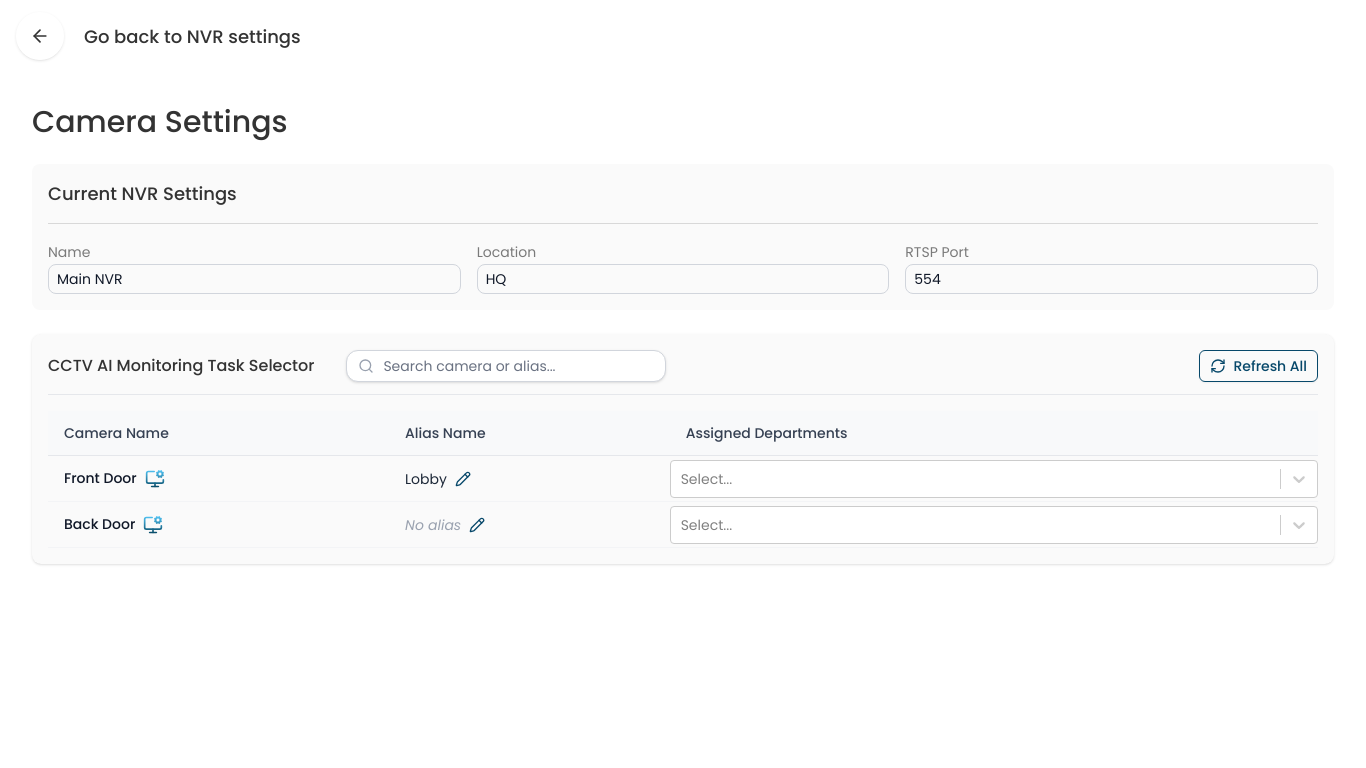
it: Camerasettings — full page flow › Search filter narrows the table to matching cameras
The width and height of the screenshot is (1366, 768).
Expected: the text "Front Door" is shown, [48,456,389,502]
Step 1. Type "back" into the field with placeholder "Search camera or alias..." → (506, 366), box [346,350,666,382]
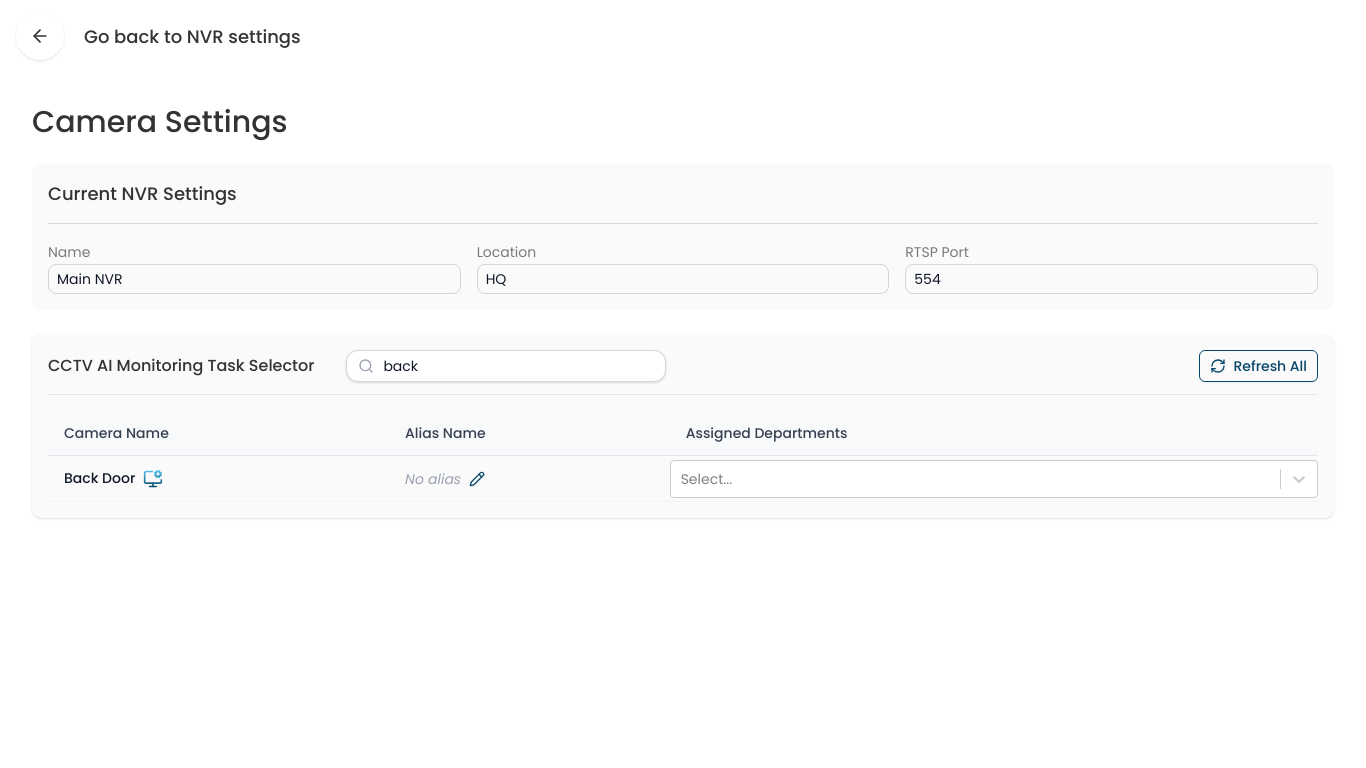
Expected: the text "Back Door" is shown, [48,456,389,502]
Expected: the text "Front Door" is gone
